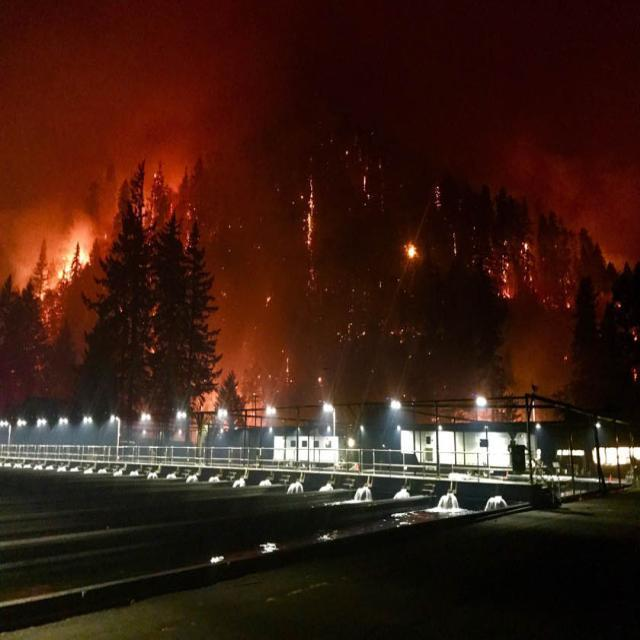Smoke: (0, 172, 116, 296)
